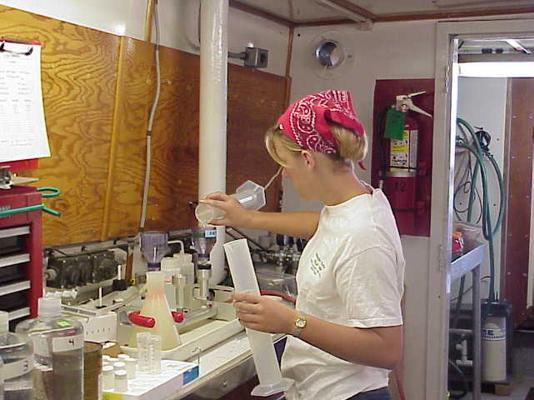person: (197, 88, 407, 400)
